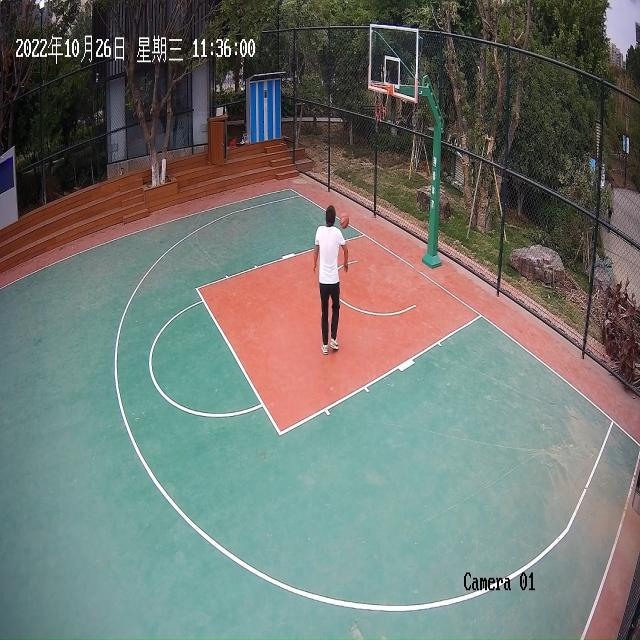rim: (340, 212, 350, 230)
